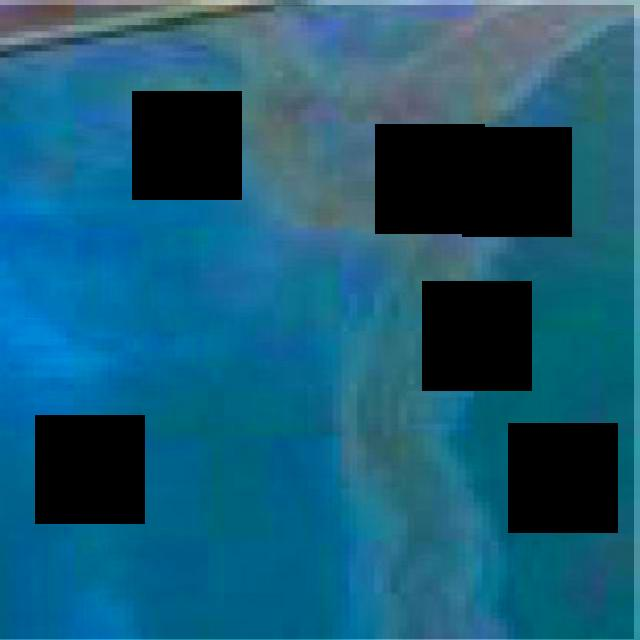oil spill: (0, 6, 634, 639)
